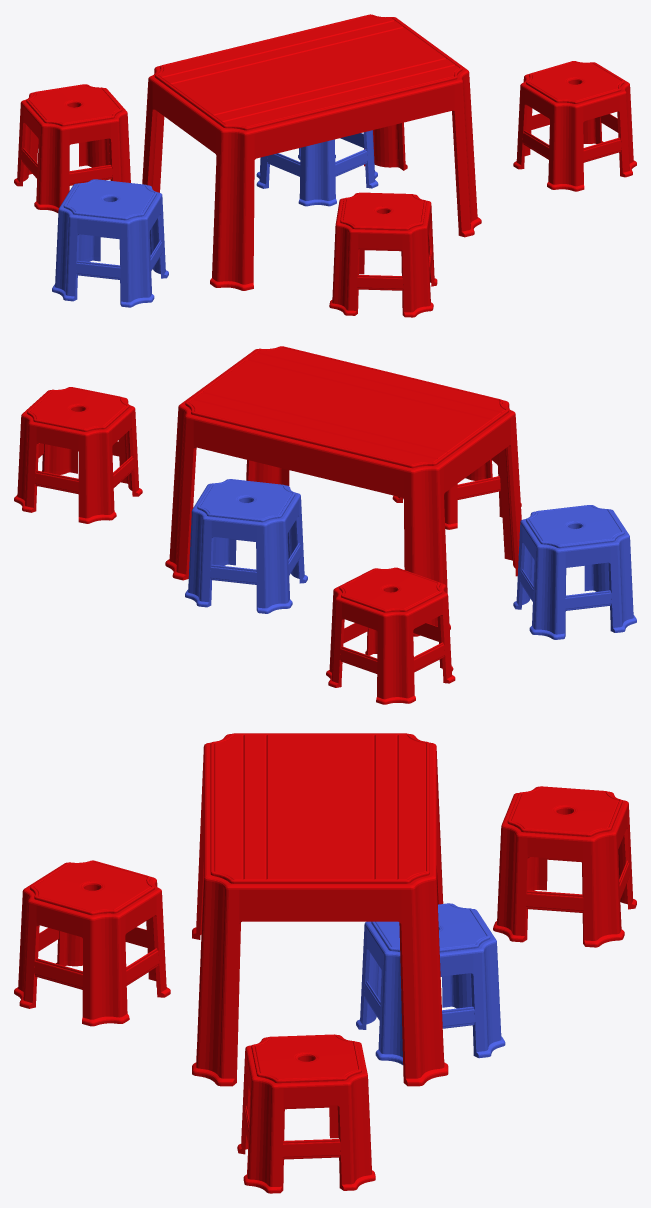
Rendered from table_chair_plastic_-_ban_ghe_nhua_viet_nam.glb.
3 views of the same model, one above another, from view 1: azimuth 30°, elevation 25°; view 2: azimuth 150°, elevation 25°; view 3: azimuth 270°, elevation 25° (orthographic). The views are drawn at different scales.
Visible parts, largest first — view 1: Cube.002_0; view 2: Cube.002_0; view 3: Cube.002_0.
Part boxes in pixels (left/top/right/bottom): Cube.002_0: left=14, top=14, right=636, bottom=317; Cube.002_0: left=14, top=346, right=636, bottom=704; Cube.002_0: left=14, top=733, right=636, bottom=1193.
Size of the model in its own units: 14.25 by 3.71 by 10.65.
